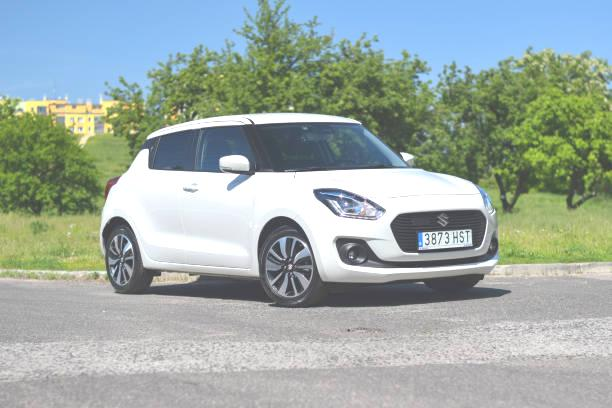suzuki: (434, 210, 453, 230)
